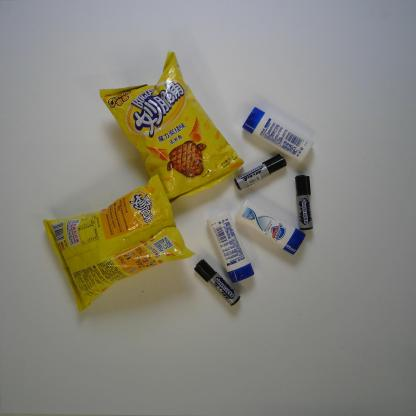Personal Hygiene: (234, 198, 306, 255), (242, 107, 314, 163), (206, 210, 254, 283)
Puffed Food: (100, 50, 244, 205), (42, 173, 197, 314)
Stationery: (193, 258, 241, 306), (234, 153, 287, 191), (294, 174, 313, 230)
